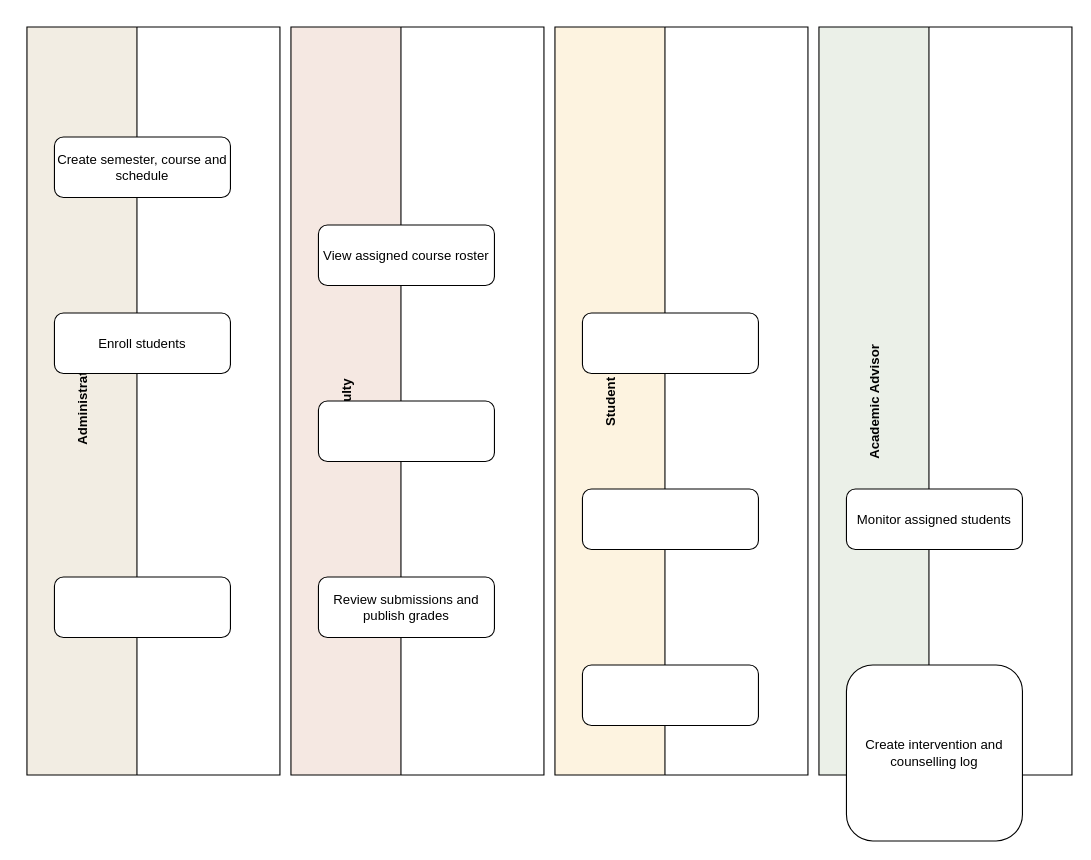
This 1091x860 diagram has some shape labels left out. The centre of each missing label's shape, as x and y in pixels:
"Access enrolled courses" goes at point 669,342.
"Mark attendance and create assignments" goes at point 405,430.
"Publish exam schedule and notices" goes at point 141,606.
"Review results and notifications" goes at point 669,694.
"View attendance and submit assignment" goes at point 669,518.
